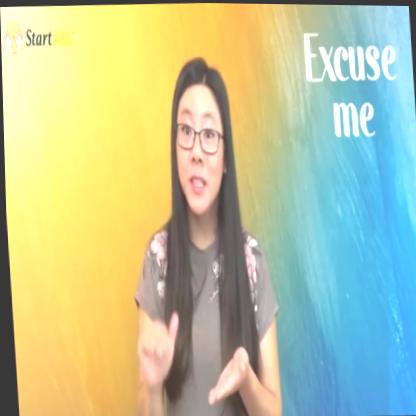ExcuseMe: (127, 278, 255, 416)
